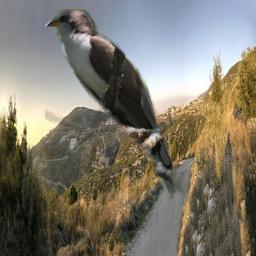Cuckoo: (45, 9, 190, 201)
